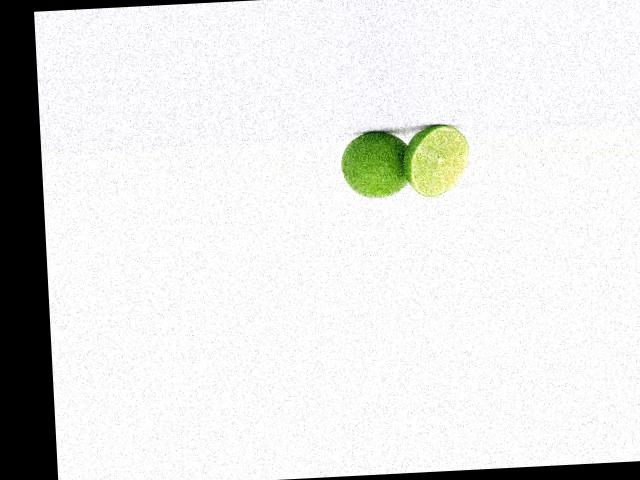lemon: (336, 125, 411, 201)
